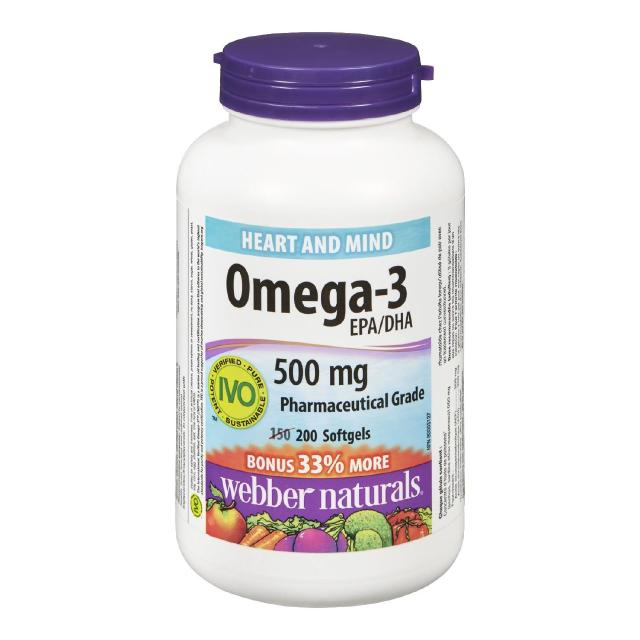medicine: (175, 143, 458, 562)
